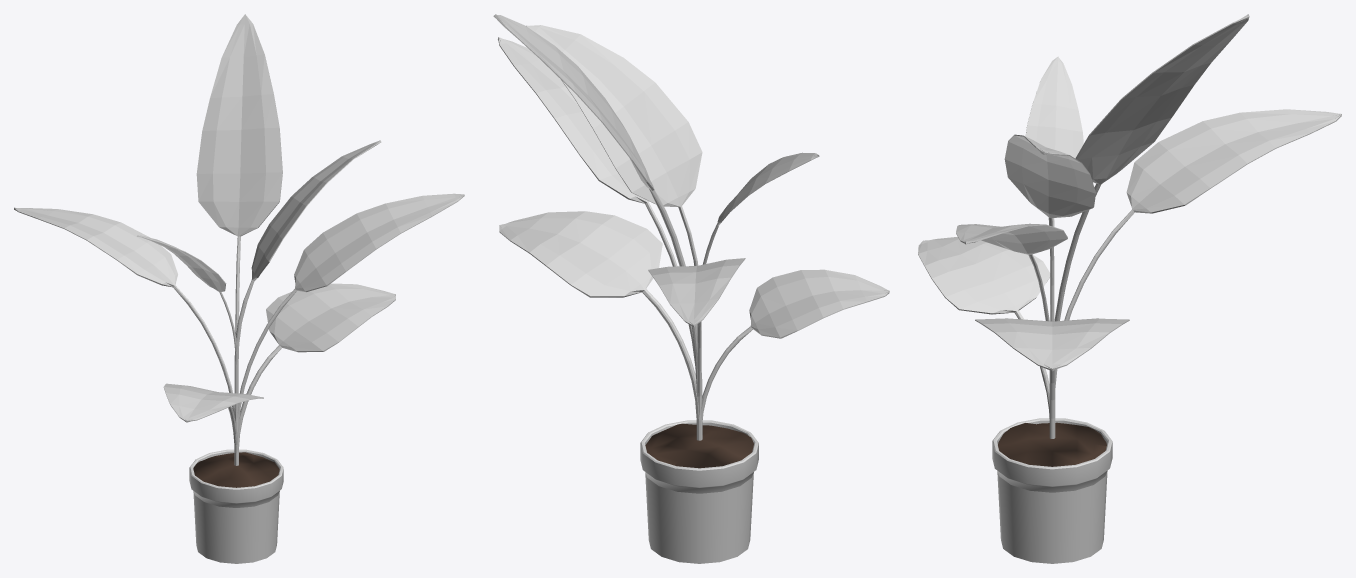
The model's file is birdOfParadise.fbx.
The picture shows the model from 3 angles, left to right: view 1: azimuth 30°, elevation 25°; view 2: azimuth 150°, elevation 25°; view 3: azimuth 270°, elevation 25°; orthographic projection. The views are drawn at different scales.
Visible parts, largest first — view 1: PlantCombined, Planter, Dirt; view 2: PlantCombined, Planter, Dirt; view 3: PlantCombined, Planter, Dirt.
Part boxes in pixels (x1,y1,x2,y2): PlantCombined: (14,14,464,465); Planter: (189,449,283,563); Dirt: (193,452,279,487); PlantCombined: (493,14,889,440); Planter: (640,420,758,563); Dirt: (645,423,753,468); PlantCombined: (918,14,1341,438); Planter: (992,418,1112,563); Dirt: (998,422,1106,466).
Bounding box in the file's own units: 45.32 × 64.71 × 42.78.
